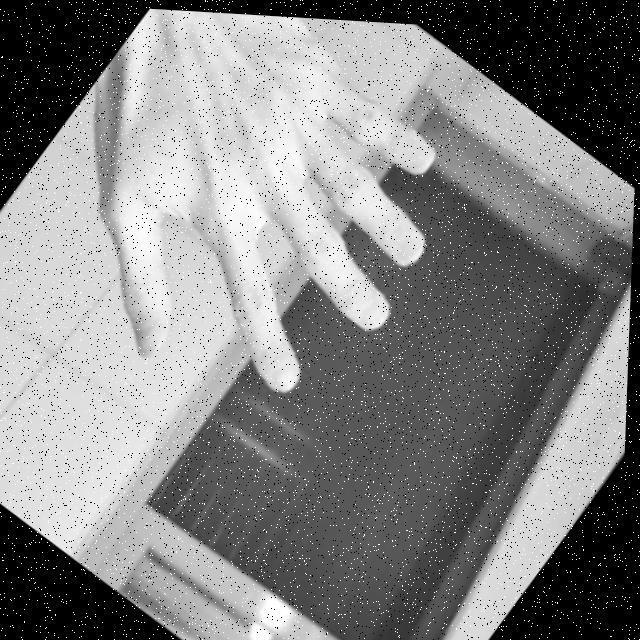no-gloves: (0, 0, 520, 473)
